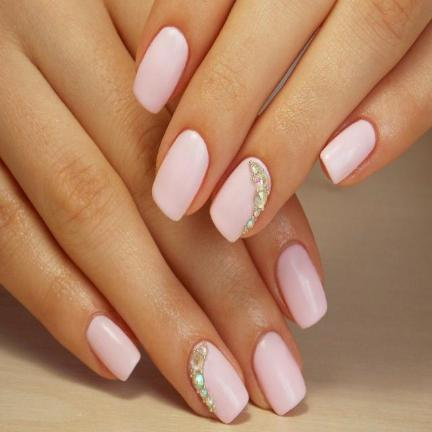Nail: (209, 157, 272, 244), (151, 130, 210, 222), (132, 26, 189, 116), (189, 340, 249, 424), (254, 331, 307, 415), (276, 244, 328, 329), (319, 119, 376, 185), (86, 315, 141, 382)
